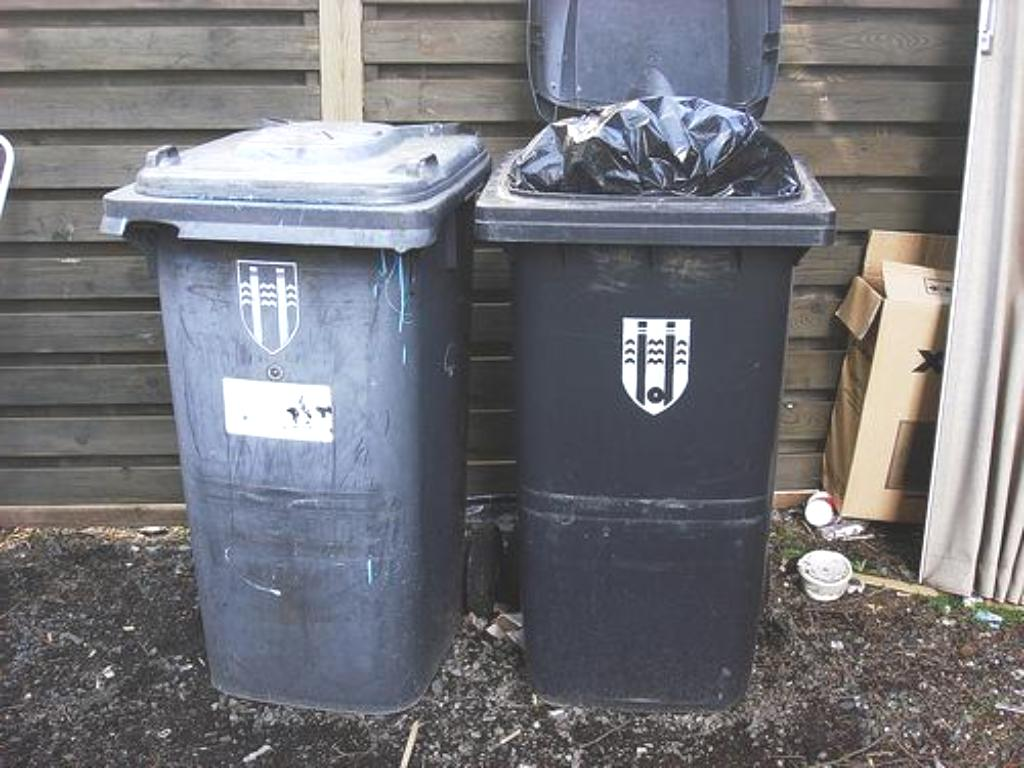dustbin: (104, 106, 485, 710), (477, 4, 800, 700)
